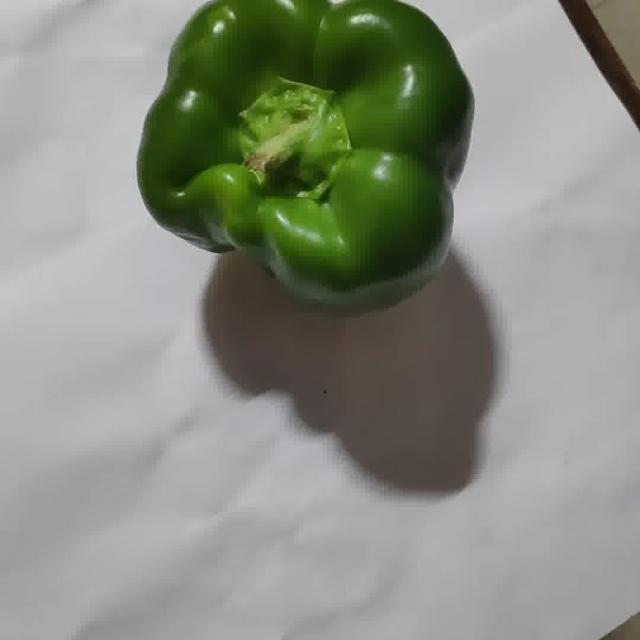Bell Pepper: (137, 0, 473, 311)
